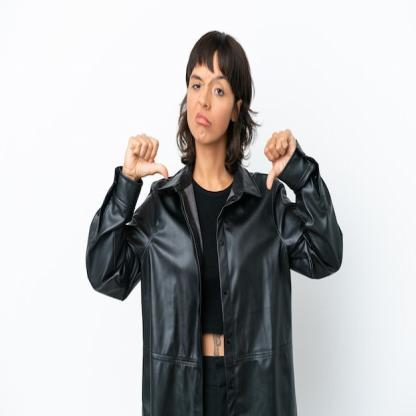thumb_down: (123, 128, 171, 184), (262, 127, 300, 194)
